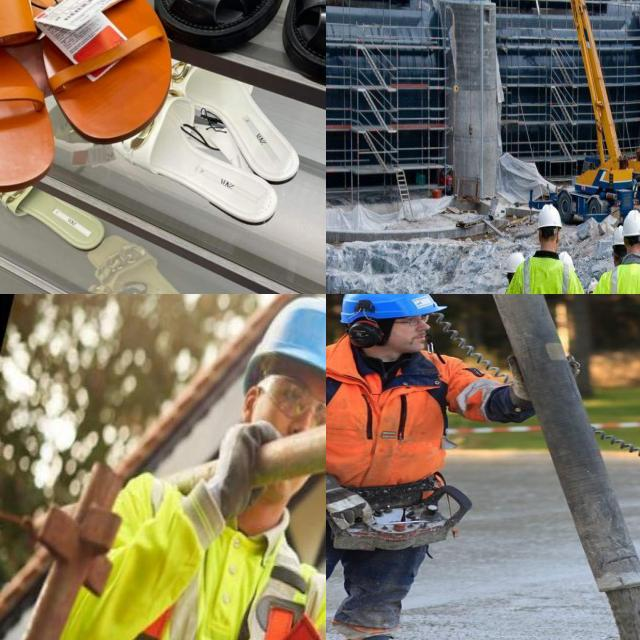Sandals: (0, 0, 187, 193)
face_nomask: (361, 310, 435, 352)
hand_glove: (326, 484, 399, 540)
head_helmet: (342, 294, 439, 316), (536, 204, 562, 231), (623, 208, 640, 240), (506, 251, 526, 275), (612, 226, 624, 245), (558, 252, 574, 266)
person: (326, 294, 451, 640), (521, 204, 579, 294)
vest: (326, 363, 490, 485), (514, 257, 574, 294)
